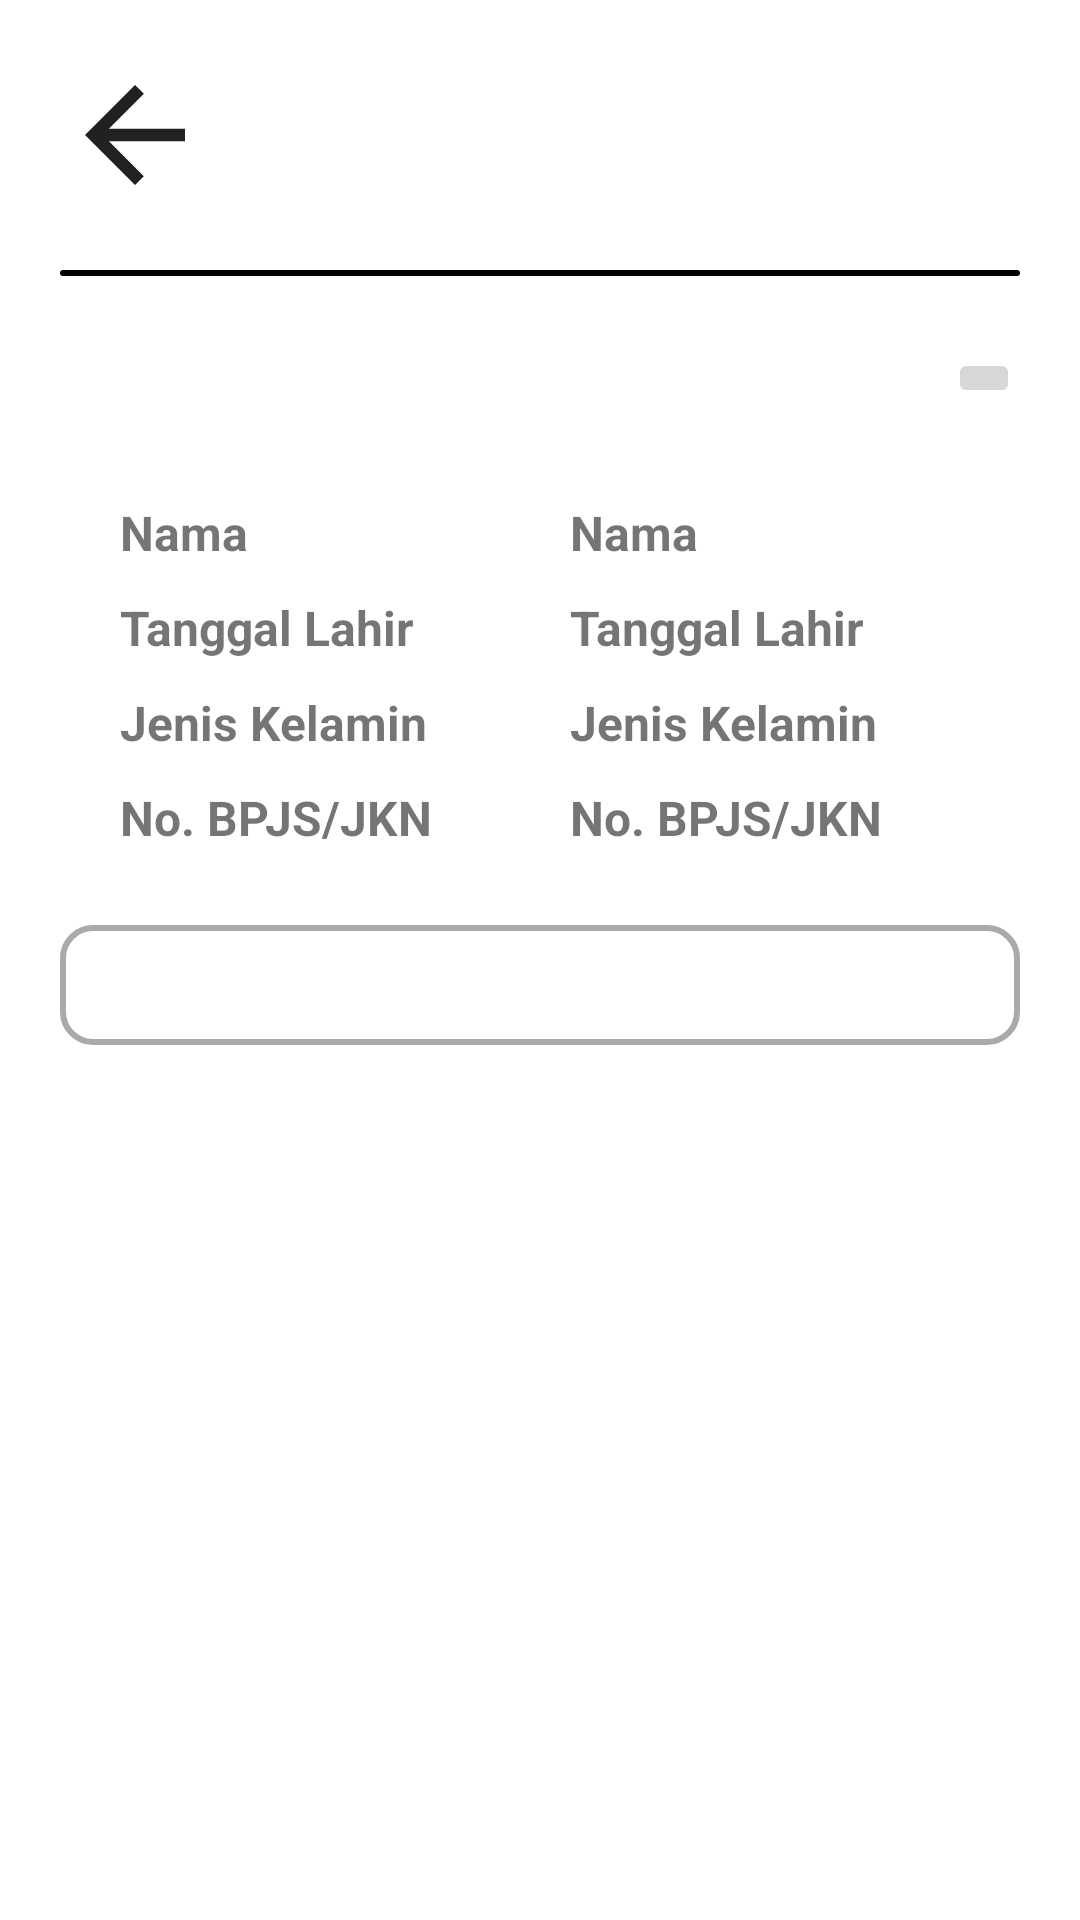

Screen size 1080px x 1920px. Icon name, then its center in pixels as (x,y):
back: (135,135)
